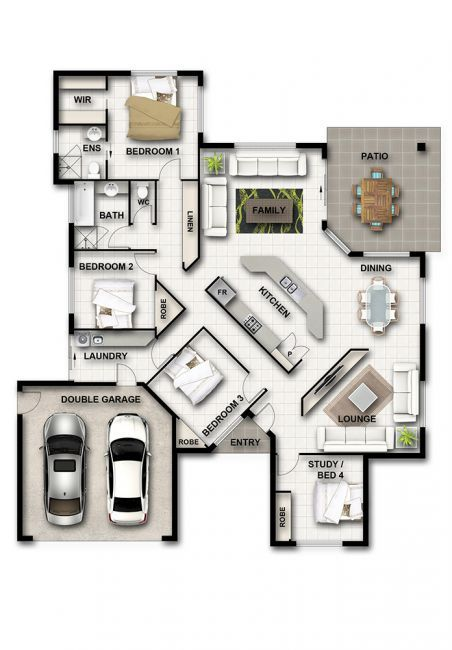door: (257, 397, 286, 428), (22, 387, 46, 416), (110, 358, 140, 379), (130, 250, 153, 274), (157, 155, 186, 173), (276, 457, 298, 479), (106, 228, 127, 248), (134, 202, 153, 222)
room: (188, 247, 429, 457), (195, 140, 330, 250), (101, 63, 201, 184), (266, 450, 371, 548), (65, 246, 159, 332), (66, 326, 152, 386), (68, 176, 134, 254), (51, 121, 110, 182), (53, 67, 110, 128), (126, 177, 158, 224)
